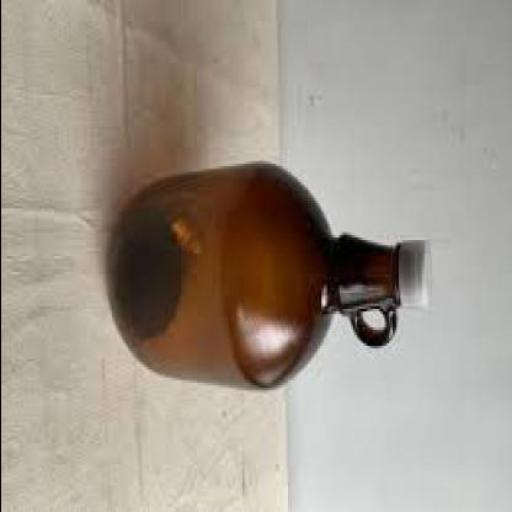glass: (106, 161, 400, 388)
metal: (401, 240, 435, 306)
